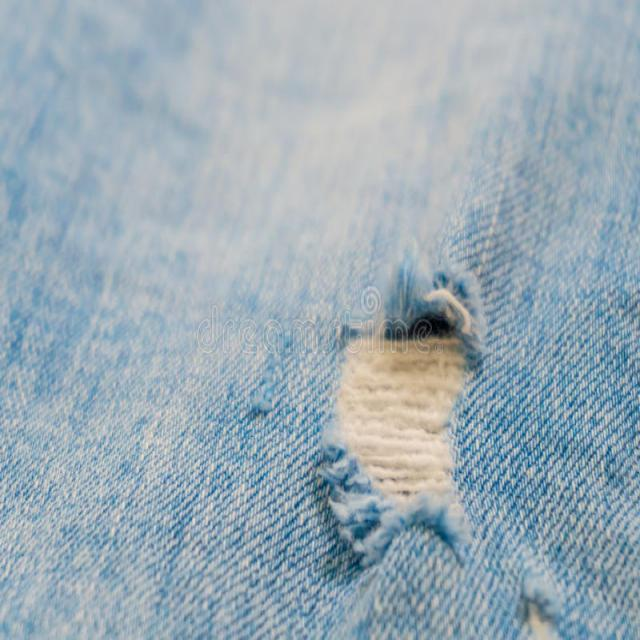Hole: (322, 261, 487, 566), (520, 578, 564, 640)
